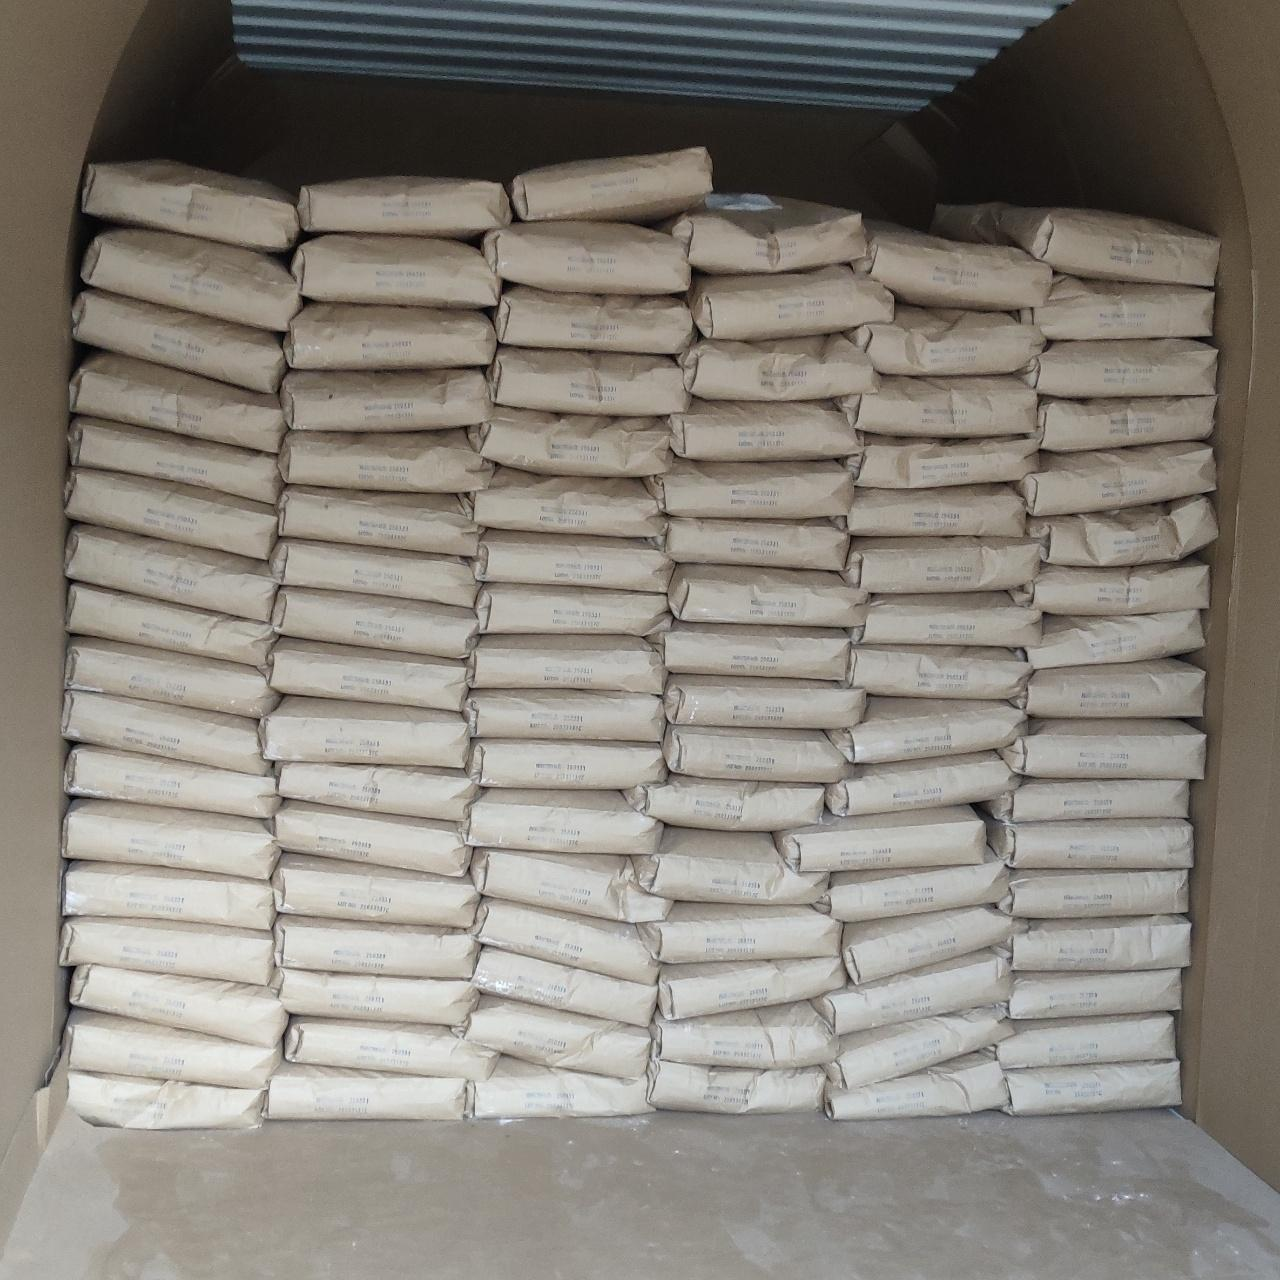sack: (932, 202, 1217, 286), (82, 229, 300, 331), (72, 290, 285, 392), (70, 354, 286, 452), (82, 159, 299, 252), (66, 525, 277, 620), (64, 467, 275, 558), (70, 417, 282, 503), (70, 965, 286, 1046), (852, 222, 1053, 308), (62, 799, 279, 879), (67, 584, 273, 667), (64, 639, 279, 719), (62, 690, 268, 772), (654, 195, 865, 274), (66, 1010, 281, 1087), (470, 898, 658, 983), (813, 953, 1012, 1034), (454, 996, 647, 1078), (291, 234, 501, 308), (64, 745, 279, 817), (510, 147, 712, 222), (483, 222, 690, 294), (828, 1007, 1014, 1088), (272, 855, 478, 927), (632, 828, 828, 904), (271, 586, 478, 658), (689, 266, 893, 339), (472, 946, 656, 1026), (1017, 442, 1216, 516), (270, 636, 467, 710), (61, 917, 273, 985), (465, 406, 673, 475), (63, 862, 274, 930), (263, 697, 467, 768), (472, 850, 670, 921), (275, 801, 467, 874), (285, 302, 495, 369), (486, 346, 688, 415), (843, 907, 1026, 983), (493, 285, 693, 354), (850, 305, 1046, 375), (278, 486, 477, 554), (776, 806, 985, 871), (280, 369, 492, 433), (1027, 496, 1217, 566), (279, 430, 493, 492), (271, 540, 477, 605), (285, 1017, 498, 1080), (1010, 274, 1214, 339), (474, 467, 660, 537), (471, 530, 673, 593), (651, 1001, 838, 1069), (828, 697, 1024, 762), (297, 177, 511, 236), (682, 335, 879, 399), (638, 903, 840, 964), (646, 459, 852, 519), (837, 376, 1039, 437), (1000, 719, 1205, 778), (274, 917, 475, 978), (467, 790, 659, 853), (668, 565, 867, 626), (828, 1053, 1008, 1119), (818, 859, 1008, 922), (825, 753, 1017, 815), (669, 399, 862, 459), (658, 956, 844, 1019), (275, 968, 478, 1024), (278, 763, 477, 819), (1013, 659, 1204, 717), (1022, 339, 1217, 396), (268, 1063, 467, 1119), (625, 775, 823, 831), (69, 1070, 266, 1126), (1009, 559, 1208, 614), (1024, 610, 1204, 670), (992, 915, 1190, 971), (471, 636, 663, 693), (840, 434, 1039, 488), (468, 1058, 649, 1117), (476, 583, 673, 636), (648, 626, 849, 679), (852, 592, 1042, 647), (663, 675, 866, 727), (846, 539, 1042, 592), (1039, 395, 1216, 452), (663, 726, 847, 781), (835, 484, 1026, 537), (996, 1013, 1175, 1069), (647, 1058, 826, 1114), (656, 517, 847, 568), (988, 821, 1192, 869), (464, 690, 662, 740), (846, 645, 1030, 697), (1005, 1060, 1180, 1114), (468, 740, 663, 788), (982, 779, 1189, 823), (999, 870, 1187, 917), (1009, 969, 1179, 1019)
